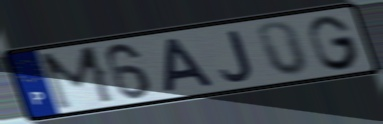0: (256, 20, 311, 80)
6: (104, 40, 154, 102)
A: (163, 35, 219, 95)
G: (306, 13, 363, 72)
J: (218, 28, 255, 83)
M: (37, 43, 119, 113)
